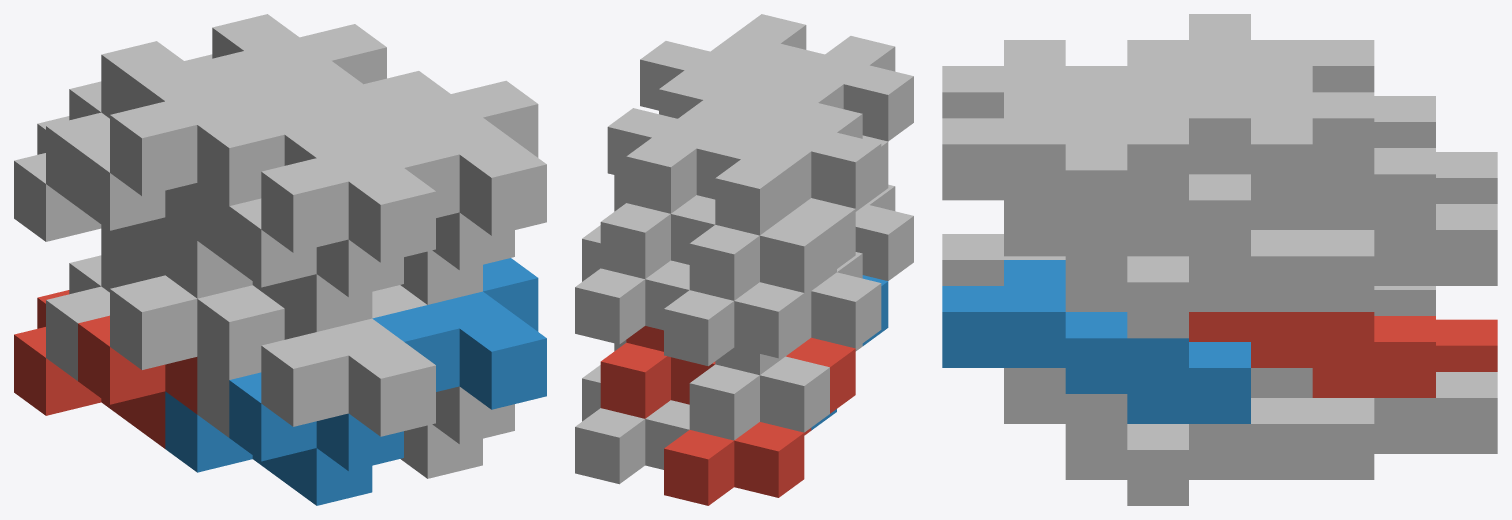
The model's file is tiling.obj.
3 renders of one model, left to right at view 1: azimuth 30°, elevation 25°; view 2: azimuth 150°, elevation 25°; view 3: azimuth 270°, elevation 25°, orthographic. The views are drawn at different scales.
Parts seen in each view (by area): view 1: copy_2_domain_3, copy_2_domain_4, copy_2_domain_1, copy_2_domain_2, copy_2_domain_8, copy_1_domain_4, copy_1_domain_2, copy_2_domain_6, copy_2_domain_7, copy_1_domain_3, copy_1_domain_1, copy_1_domain_8 (+1 smaller); view 2: copy_2_domain_3, copy_2_domain_7, copy_2_domain_1, copy_1_domain_3, copy_1_domain_1, copy_2_domain_4, copy_2_domain_8, copy_1_domain_5, copy_1_domain_7, copy_2_domain_5, copy_2_domain_2, copy_1_domain_4 (+2 smaller); view 3: copy_2_domain_8, copy_2_domain_7, copy_2_domain_6, copy_1_domain_8, copy_1_domain_6, copy_2_domain_5, copy_1_domain_5, copy_1_domain_7, copy_2_domain_3, copy_2_domain_4, copy_2_domain_2, copy_1_domain_1 (+2 smaller).
Part boxes in pixels (x1=…): copy_2_domain_3: x1=46, y1=41, x2=284, y2=206; copy_2_domain_4: x1=197, y1=98, x2=435, y2=263; copy_2_domain_1: x1=46, y1=228, x2=284, y2=380; copy_2_domain_2: x1=197, y1=285, x2=435, y2=437; copy_2_domain_8: x1=364, y1=71, x2=546, y2=235; copy_1_domain_4: x1=165, y1=198, x2=403, y2=331; copy_1_domain_2: x1=165, y1=372, x2=403, y2=505; copy_2_domain_6: x1=372, y1=258, x2=546, y2=409; copy_2_domain_7: x1=184, y1=14, x2=394, y2=120; copy_1_domain_3: x1=14, y1=116, x2=197, y2=274; copy_1_domain_1: x1=14, y1=290, x2=197, y2=448; copy_1_domain_8: x1=400, y1=212, x2=514, y2=304; copy_2_domain_3: x1=689, y1=103, x2=881, y2=300; copy_2_domain_7: x1=600, y1=81, x2=791, y2=278; copy_2_domain_1: x1=689, y1=252, x2=881, y2=440; copy_1_domain_3: x1=664, y1=198, x2=855, y2=366; copy_1_domain_1: x1=664, y1=337, x2=855, y2=505; copy_2_domain_4: x1=729, y1=36, x2=913, y2=211; copy_2_domain_8: x1=640, y1=14, x2=824, y2=118; copy_1_domain_5: x1=575, y1=365, x2=689, y2=484; copy_1_domain_7: x1=575, y1=225, x2=689, y2=344; copy_2_domain_5: x1=600, y1=326, x2=715, y2=418; copy_2_domain_2: x1=855, y1=184, x2=913, y2=351; copy_1_domain_4: x1=811, y1=135, x2=888, y2=290; copy_2_domain_8: x1=942, y1=92, x2=1250, y2=256; copy_2_domain_7: x1=1127, y1=66, x2=1435, y2=229; copy_2_domain_6: x1=942, y1=260, x2=1250, y2=423; copy_1_domain_8: x1=1004, y1=200, x2=1312, y2=338; copy_1_domain_6: x1=1004, y1=368, x2=1312, y2=505; copy_2_domain_5: x1=1189, y1=312, x2=1435, y2=397; copy_1_domain_5: x1=1251, y1=368, x2=1497, y2=479; copy_1_domain_7: x1=1251, y1=200, x2=1497, y2=311; copy_2_domain_3: x1=1127, y1=14, x2=1435, y2=147; copy_2_domain_4: x1=942, y1=40, x2=1188, y2=118; copy_2_domain_2: x1=942, y1=234, x2=1065, y2=285; copy_1_domain_1: x1=1436, y1=319, x2=1497, y2=371.
Bounding box in the file's own units: 6 × 6 × 9.
